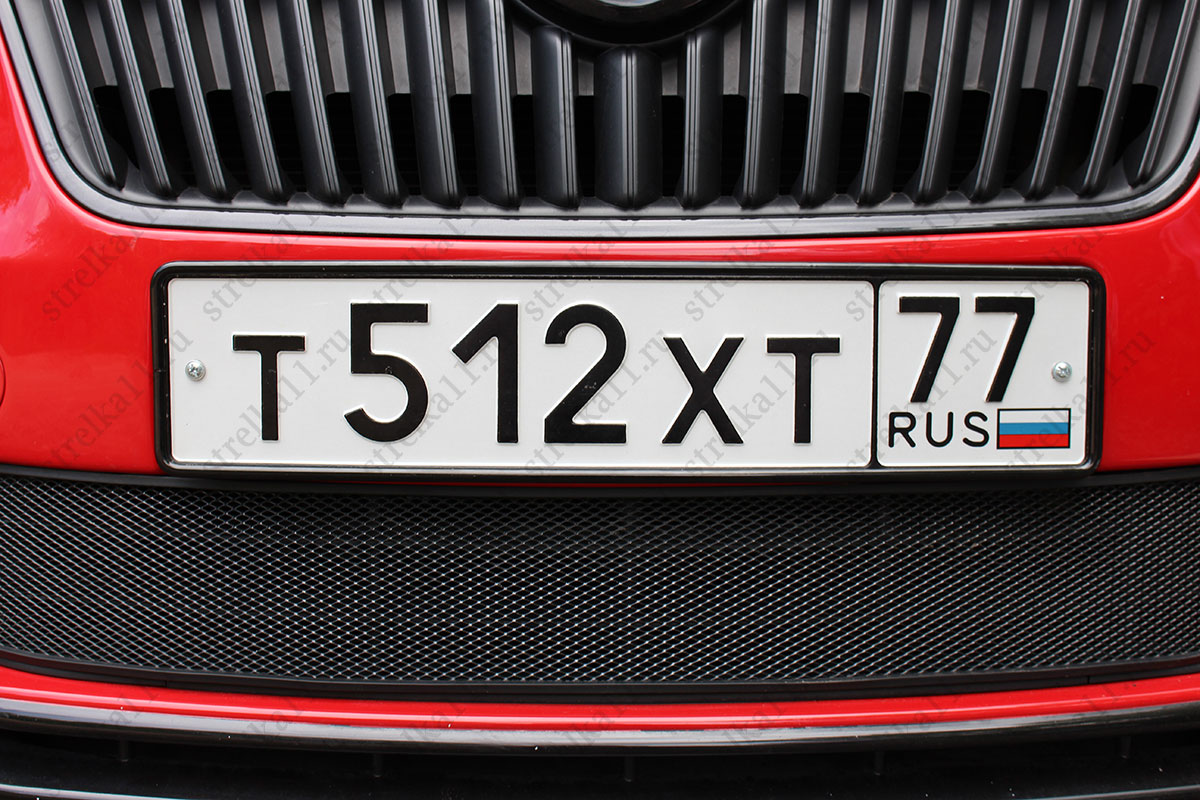number_plate: (174, 268, 1103, 466)
